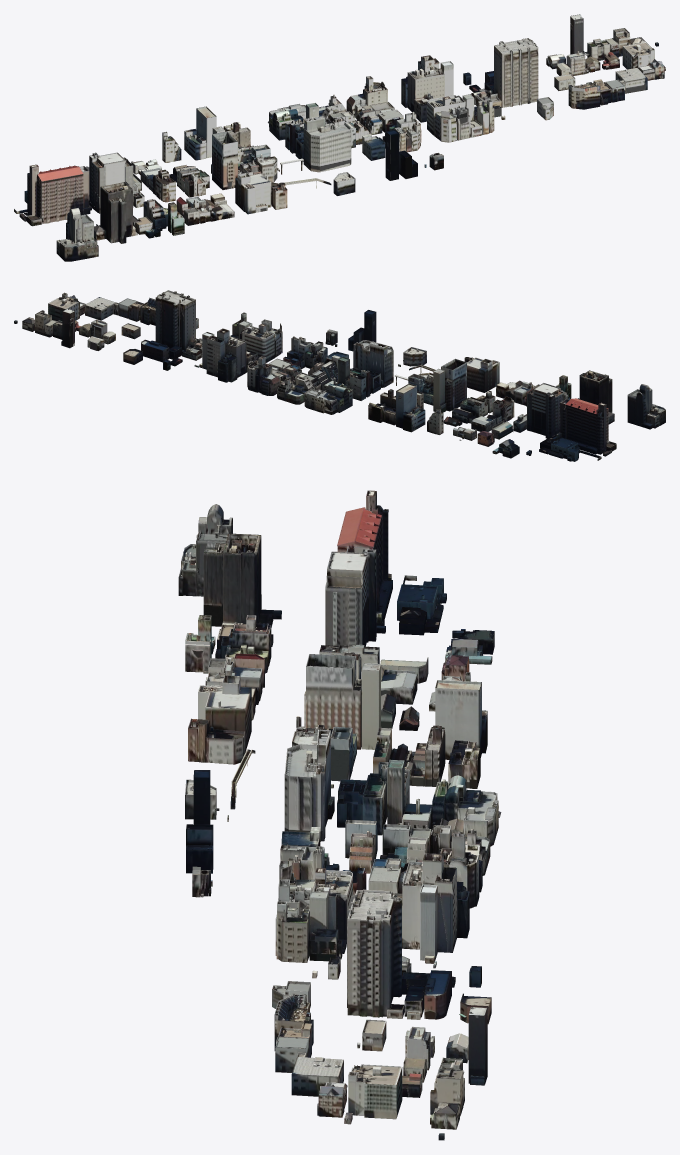
File: station-8-1-packed.glb
3 renders of one model, top to bottom at view 1: azimuth 30°, elevation 25°; view 2: azimuth 150°, elevation 25°; view 3: azimuth 270°, elevation 25°, orthographic. The views are drawn at different scales.
Size of the model in its own units: 541 by 44.76 by 128.
10 materials, 9 textured.
